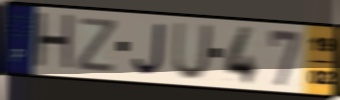4: (223, 24, 260, 87)
7: (267, 27, 303, 89)
H: (33, 10, 76, 74)
J: (132, 21, 167, 77)
U: (170, 21, 215, 82)
Z: (75, 15, 120, 75)
